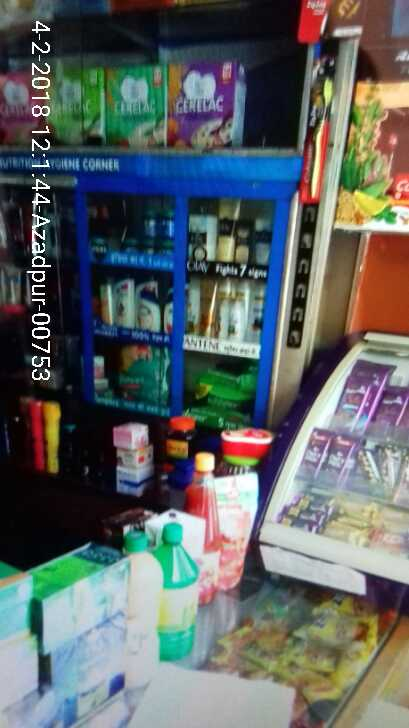vicks: (141, 212, 177, 248)
